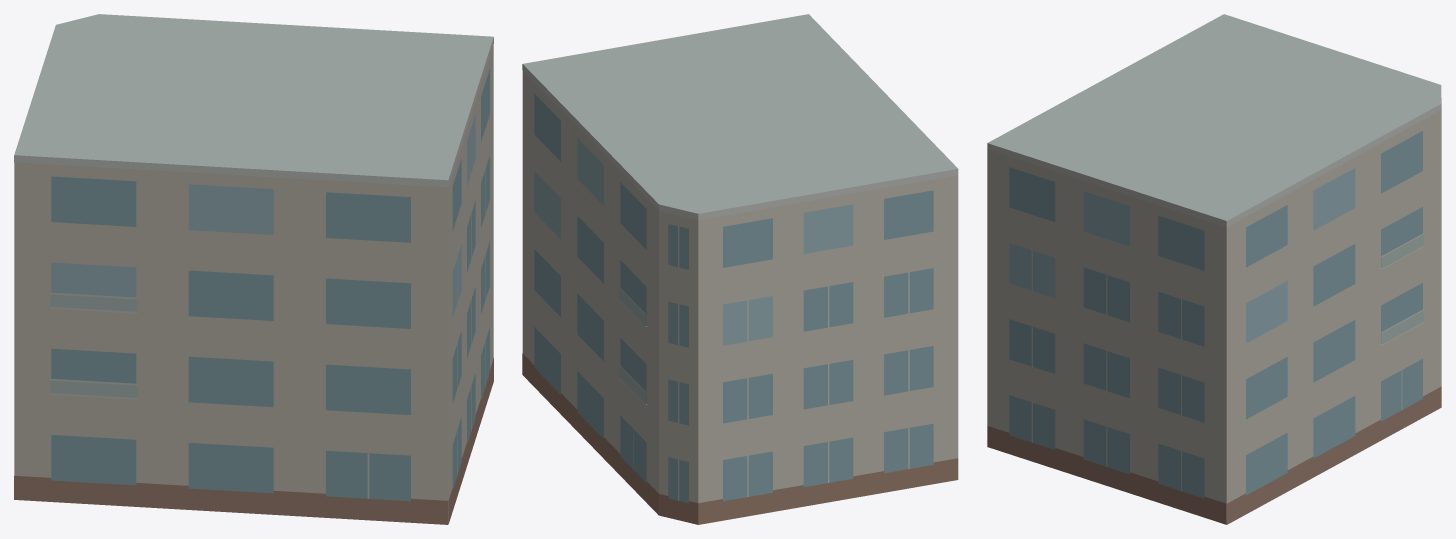
File: survey-upis-32944061.glb
3 views of the same model, side by side, from view 1: azimuth 30°, elevation 25°; view 2: azimuth 150°, elevation 25°; view 3: azimuth 270°, elevation 25° (orthographic). The views are drawn at different scales.
Visible parts, largest first — view 1: survey-upis-32944061.tmp; view 2: survey-upis-32944061.tmp; view 3: survey-upis-32944061.tmp.
Boxes of the visible parts, bbox=[...] form: survey-upis-32944061.tmp: bbox=[14, 14, 493, 524]; survey-upis-32944061.tmp: bbox=[522, 14, 958, 524]; survey-upis-32944061.tmp: bbox=[987, 14, 1441, 524].
Size of the model in its own units: 17.4 by 11.9 by 16.14.
